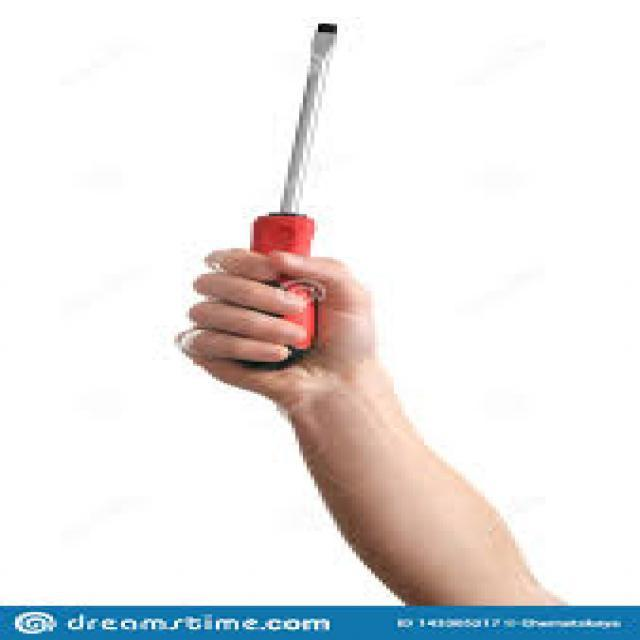screwdriver: (205, 11, 352, 374)
